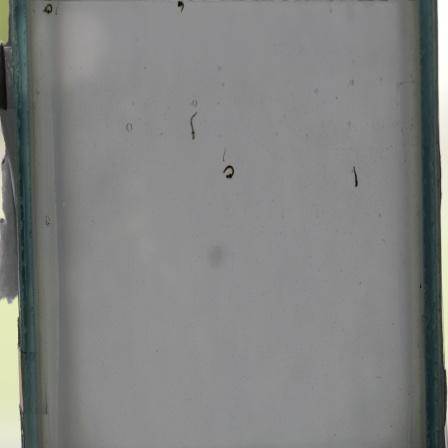Jentik-Nyamuk: (186, 108, 201, 142), (218, 162, 240, 183), (40, 0, 57, 21), (349, 163, 362, 188), (170, 0, 189, 14)
